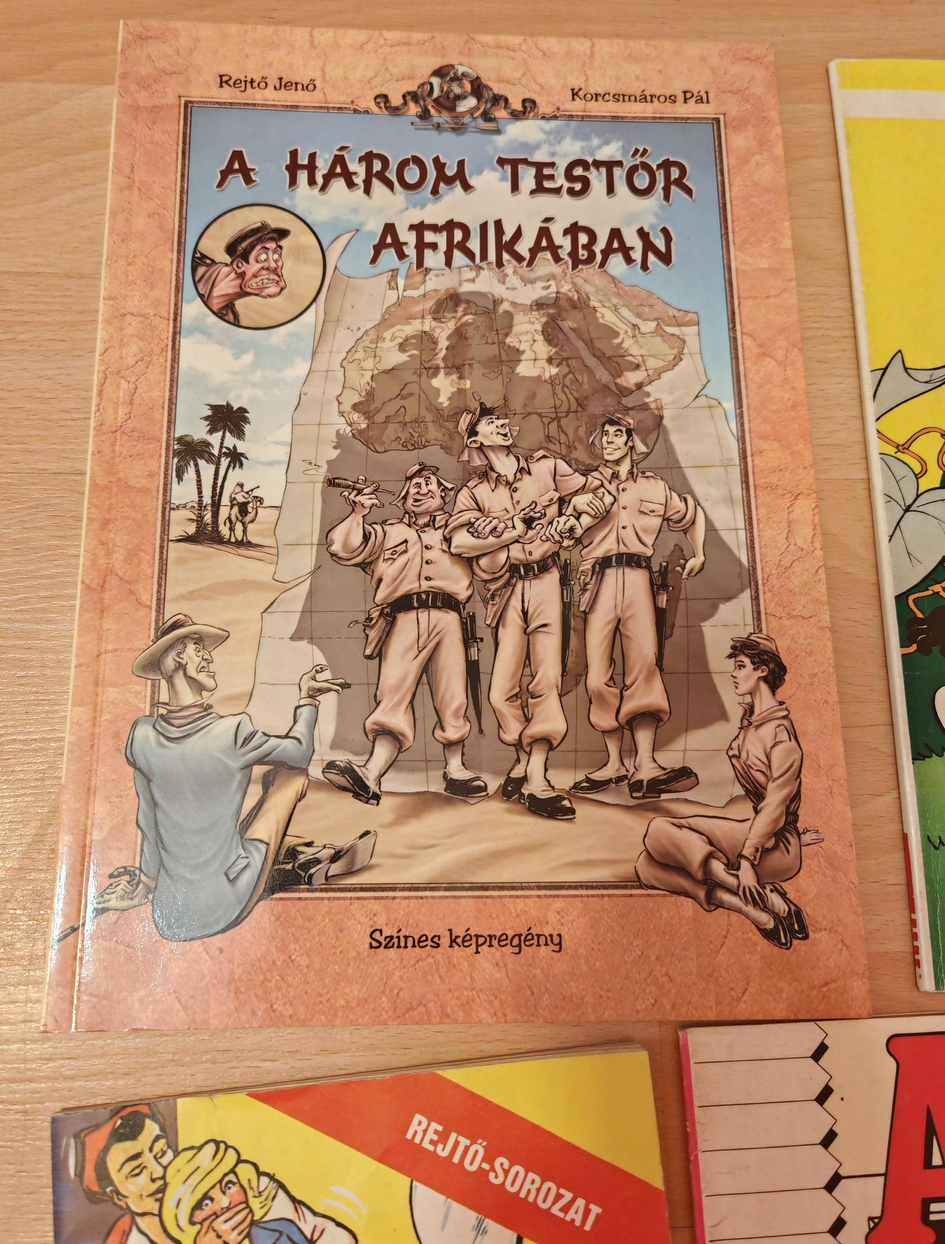comic: (46, 23, 867, 1028)
